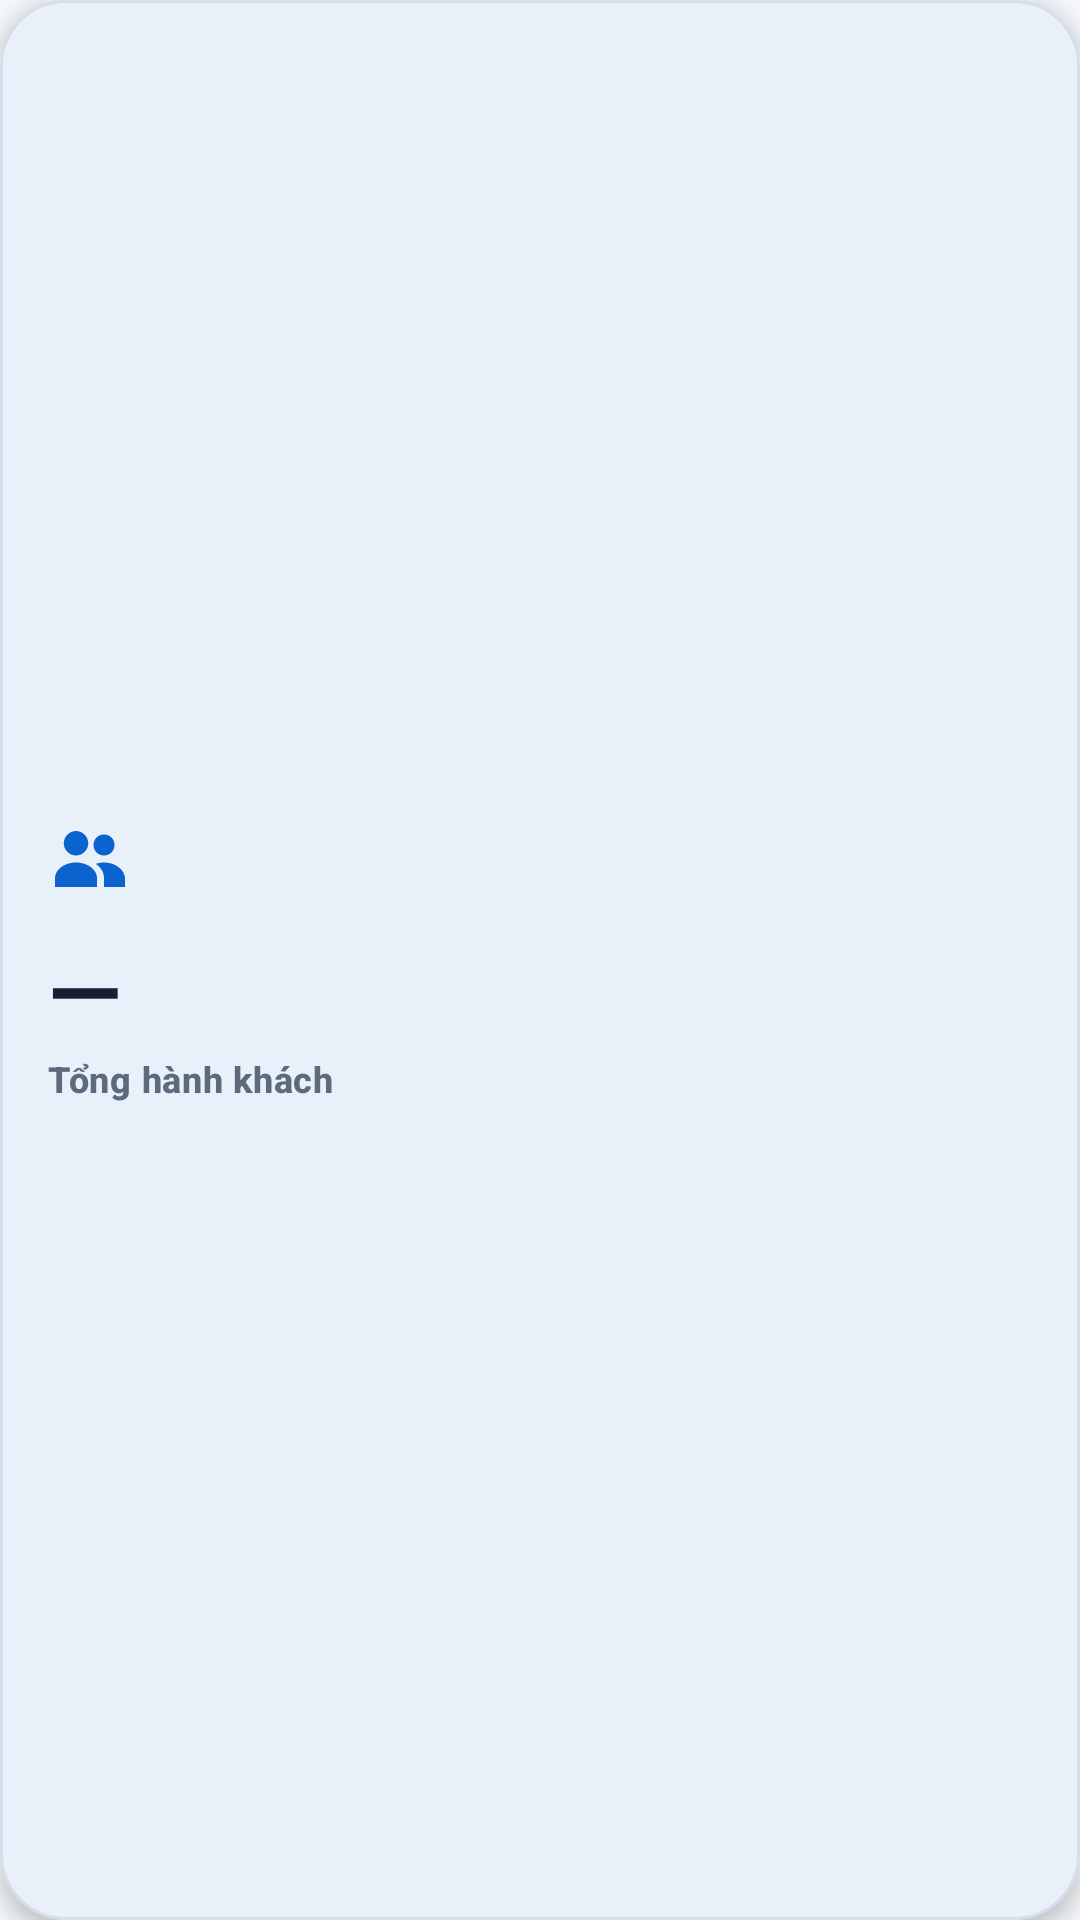

Icons on this 1080px x 1920px Android screen, each with the point to tap as [x,y]:
passenger: [90,859]
